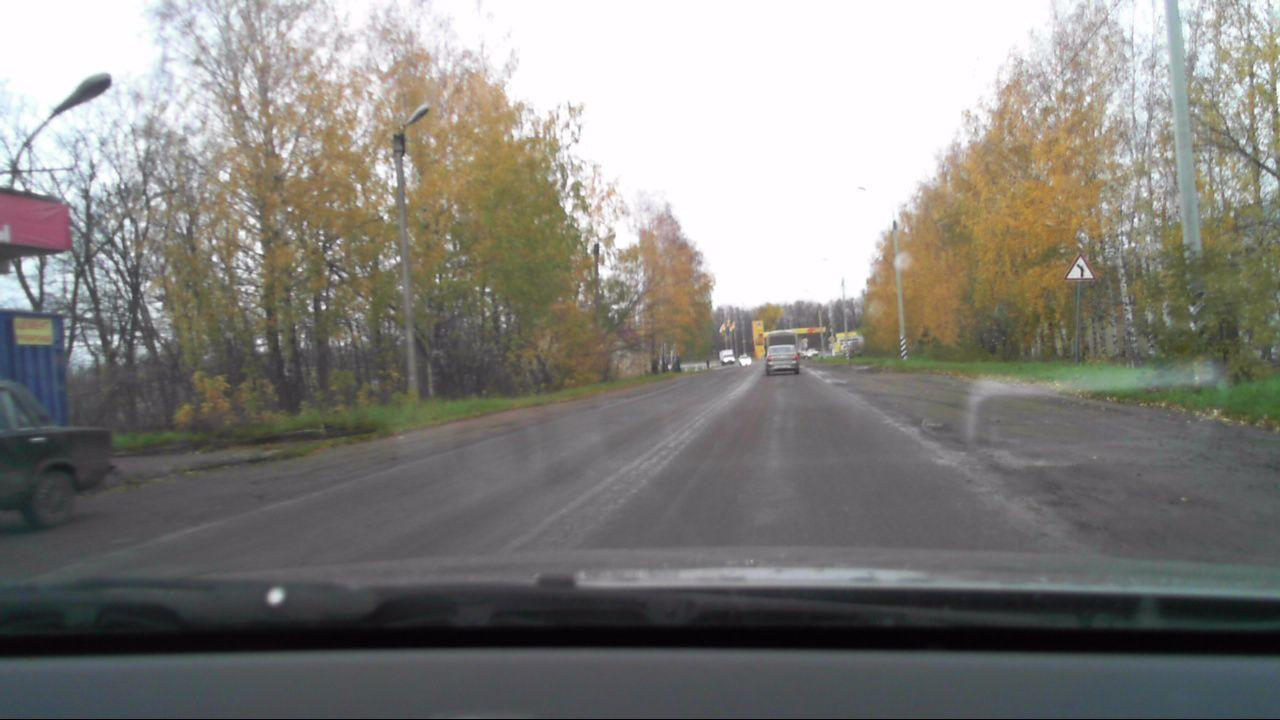1_11_2: (1065, 254, 1098, 283)
